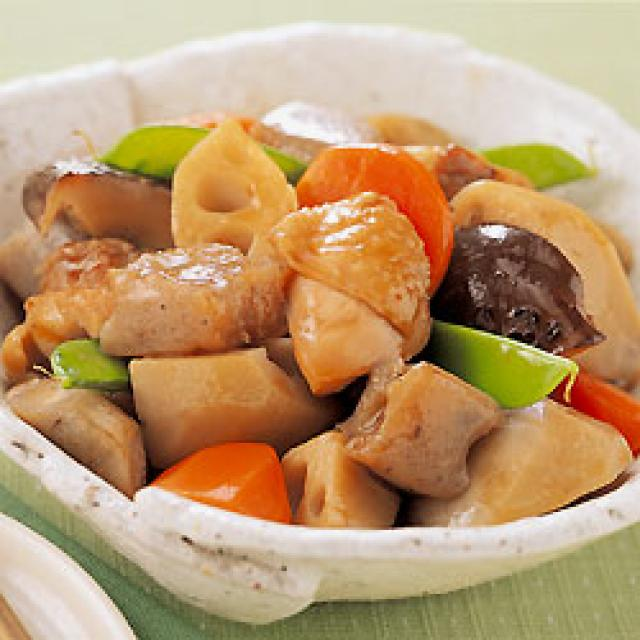鸡肉料理 含炸鸡: (0, 0, 640, 538)
